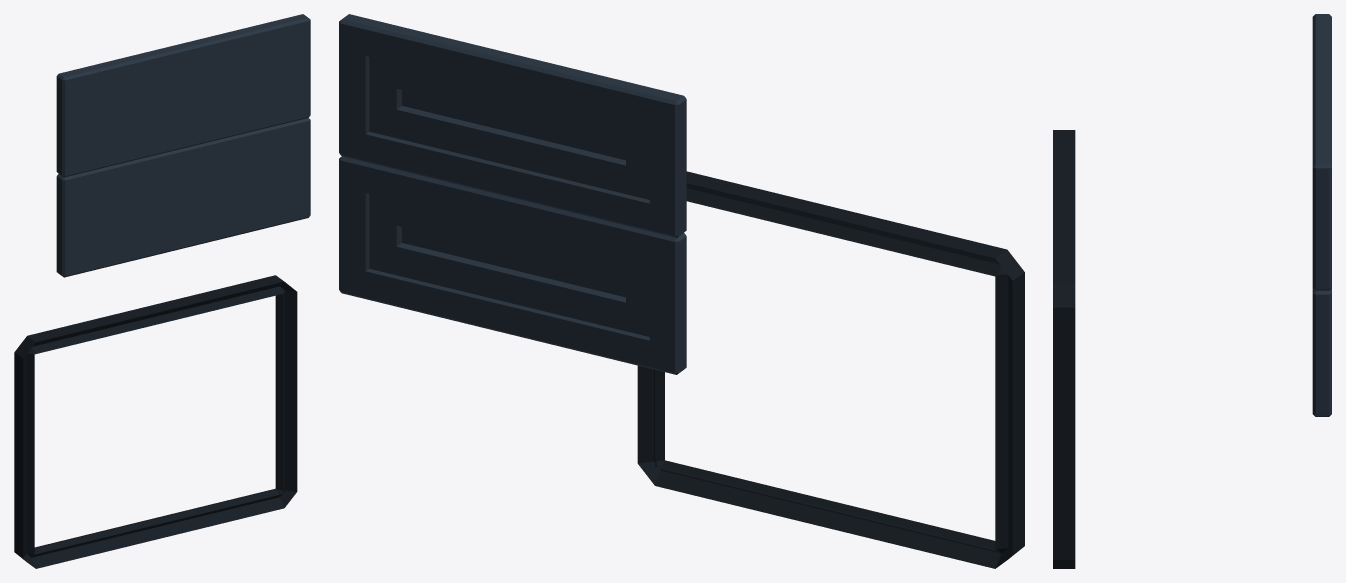
The model's file is door.glb.
3 views of the same model, side by side, from view 1: azimuth 30°, elevation 25°; view 2: azimuth 150°, elevation 25°; view 3: azimuth 270°, elevation 25° (orthographic). The views are drawn at different scales.
Visible parts, largest first — view 1: top, bottom, frame; view 2: top, bottom, frame; view 3: frame, top, bottom.
Boxes of the visible parts, x1=… form: top: x1=56, y1=14, x2=310, y2=177; bottom: x1=56, y1=118, x2=310, y2=277; frame: x1=14, y1=275, x2=297, y2=568; top: x1=339, y1=14, x2=686, y2=237; bottom: x1=339, y1=156, x2=686, y2=374; frame: x1=637, y1=171, x2=1024, y2=568; frame: x1=1053, y1=130, x2=1075, y2=568; top: x1=1312, y1=14, x2=1331, y2=290; bottom: x1=1312, y1=288, x2=1331, y2=416.
Bounding box in the file's own units: 10.25 × 9.59 × 5.02.
Materials: 3 (3 with a texture image).
